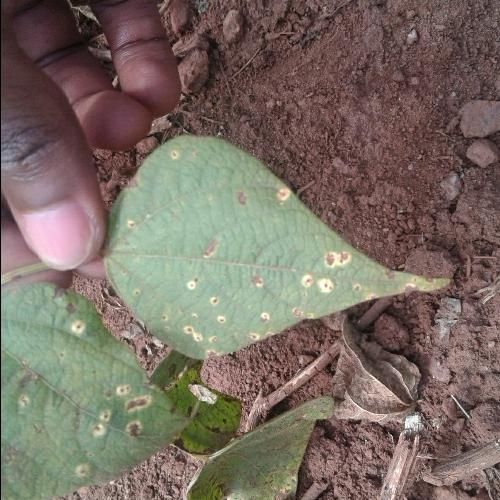hawar: (98, 385, 156, 442), (307, 242, 359, 278), (191, 228, 230, 264), (223, 191, 260, 207)
